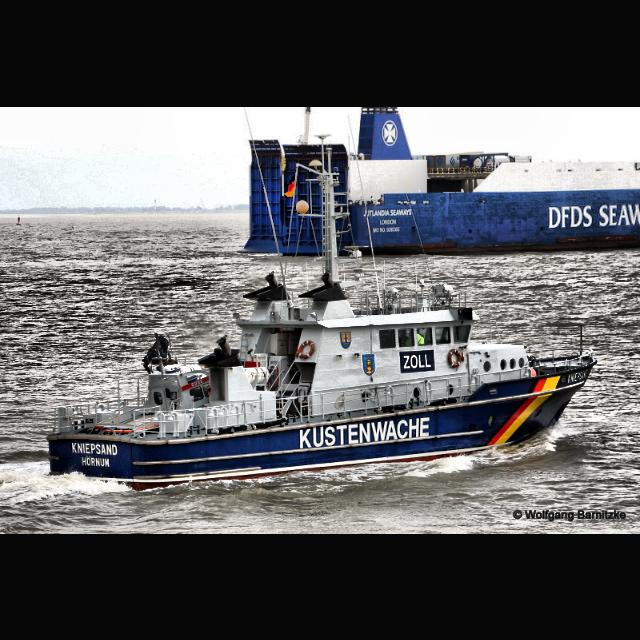patrol_vessel: (46, 134, 598, 492)
